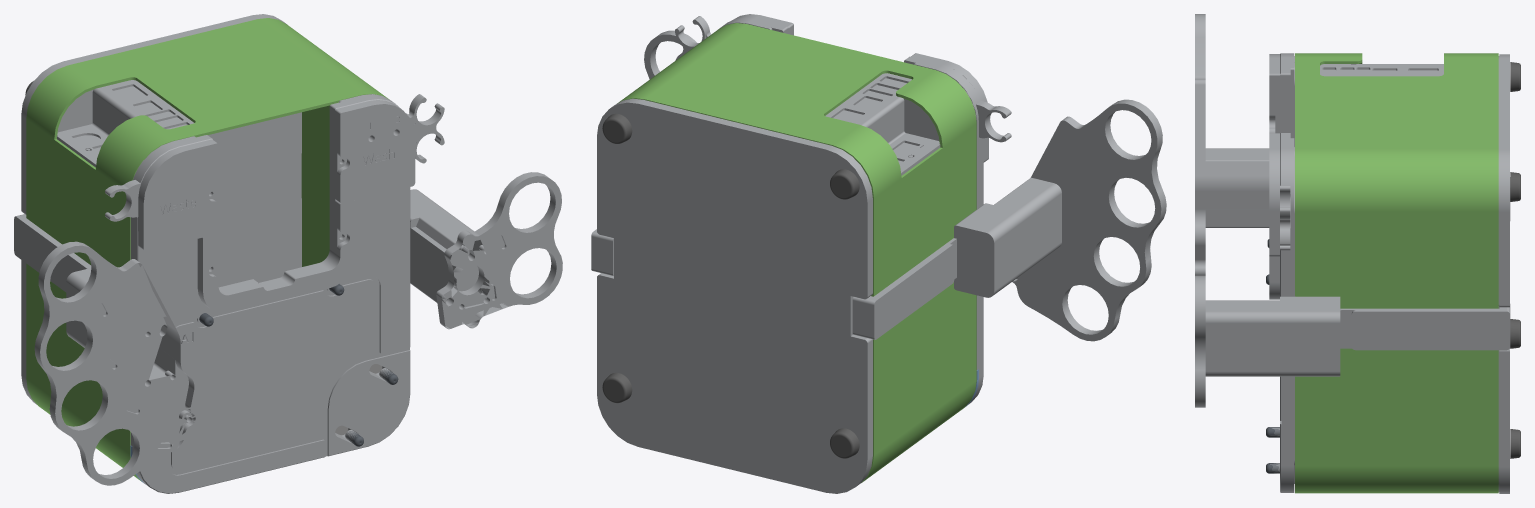
File: Mantis.glb
The picture shows the model from 3 angles, left to right: view 1: azimuth 30°, elevation 25°; view 2: azimuth 150°, elevation 25°; view 3: azimuth 270°, elevation 25°; orthographic projection.
Bounding box in the file's own units: 335 × 214 × 184.
